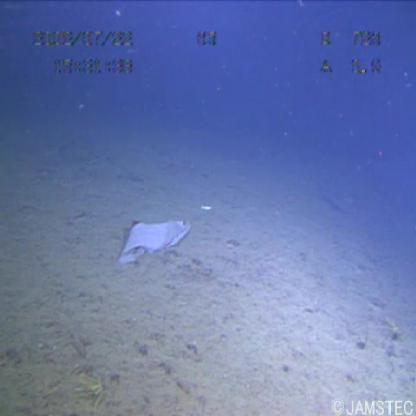Rác: (95, 207, 220, 281)
